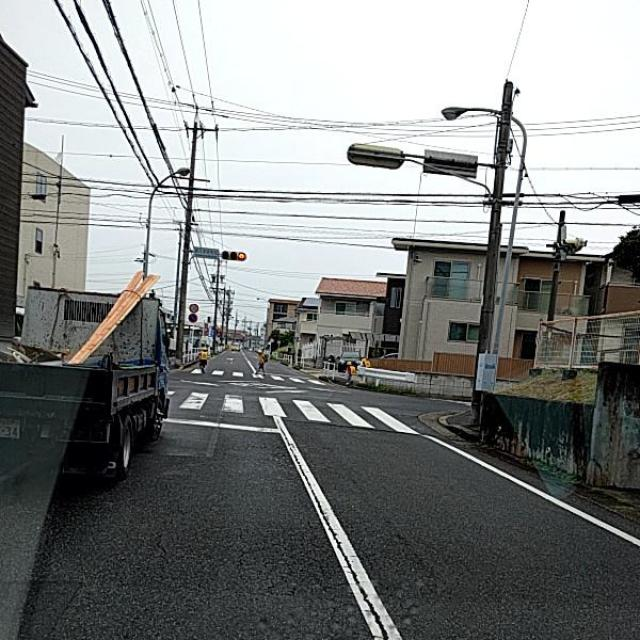Crack: (246, 391, 494, 640)
